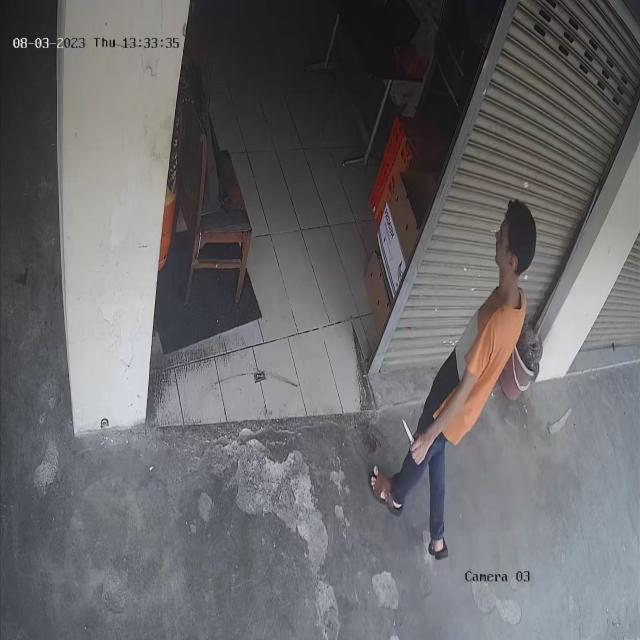Knife: (396, 408, 426, 462)
